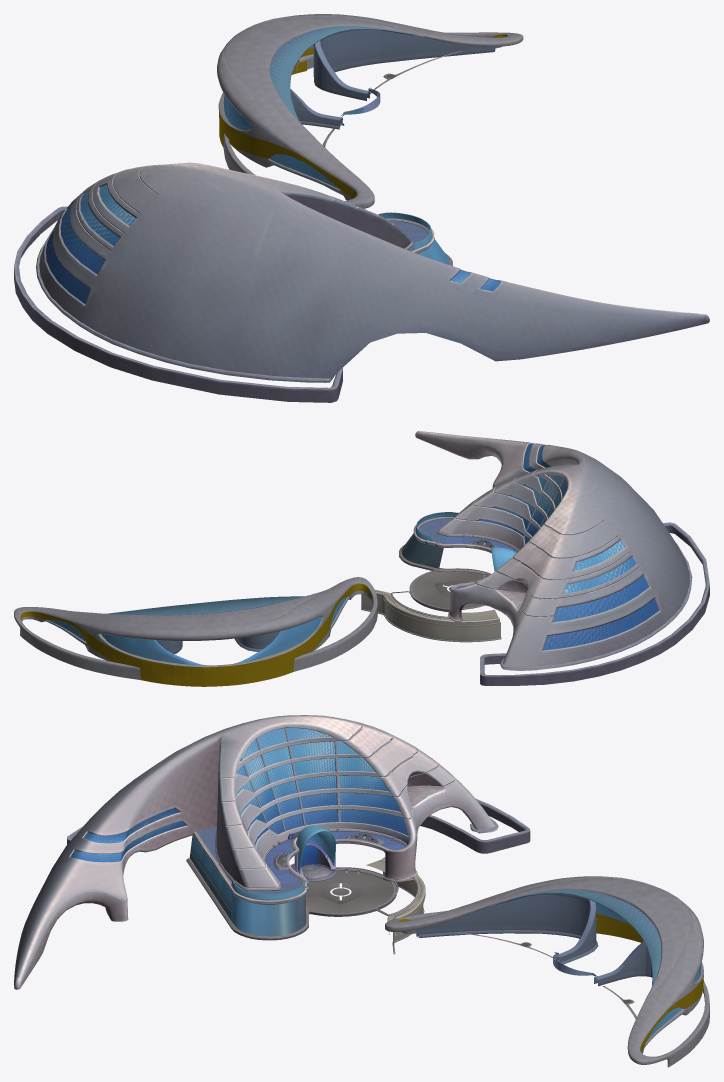
File: pref_sm_4v4pointbake_CSD_R_lv0.fbx
The picture shows the model from 3 angles, top to bottom: view 1: azimuth 30°, elevation 25°; view 2: azimuth 150°, elevation 25°; view 3: azimuth 270°, elevation 25°; orthographic projection. The views are drawn at different scales.
Visible parts, largest first — view 1: sm_4v4pointbake_CSD_R_i_lv0, sm_4v4pointbake_CSD_R_d_lv0, sm_4v4pointbake_CSD_R_c_lv0, sm_4v4pointbake_CSD_R_h_lv0, sm_4v4pointbake_CSD_R_b_lv0; view 2: sm_4v4pointbake_CSD_R_i_lv0, sm_4v4pointbake_CSD_R_d_lv0, sm_4v4pointbake_CSD_R_h_lv0, sm_4v4pointbake_CSD_R_c_lv0, sm_4v4pointbake_CSD_R_b_lv0, sm_4v4pointbake_CSD_R_a_lv0, sm_4v4pointbake_CSD_R_f_lv0; view 3: sm_4v4pointbake_CSD_R_i_lv0, sm_4v4pointbake_CSD_R_h_lv0, sm_4v4pointbake_CSD_R_d_lv0, sm_4v4pointbake_CSD_R_c_lv0, sm_4v4pointbake_CSD_R_f_lv0, sm_4v4pointbake_CSD_R_b_lv0, sm_4v4pointbake_CSD_R_a_lv0.
Boxes of the visible parts, x1,y1,x2,y2 form: sm_4v4pointbake_CSD_R_i_lv0: [14, 162, 709, 402]; sm_4v4pointbake_CSD_R_d_lv0: [217, 14, 523, 208]; sm_4v4pointbake_CSD_R_c_lv0: [218, 29, 507, 198]; sm_4v4pointbake_CSD_R_h_lv0: [46, 185, 500, 304]; sm_4v4pointbake_CSD_R_b_lv0: [223, 26, 413, 188]; sm_4v4pointbake_CSD_R_i_lv0: [399, 431, 709, 685]; sm_4v4pointbake_CSD_R_d_lv0: [14, 577, 377, 679]; sm_4v4pointbake_CSD_R_h_lv0: [401, 443, 659, 650]; sm_4v4pointbake_CSD_R_c_lv0: [20, 583, 371, 686]; sm_4v4pointbake_CSD_R_b_lv0: [47, 596, 347, 665]; sm_4v4pointbake_CSD_R_a_lv0: [361, 589, 501, 642]; sm_4v4pointbake_CSD_R_f_lv0: [412, 571, 487, 609]; sm_4v4pointbake_CSD_R_i_lv0: [14, 715, 530, 989]; sm_4v4pointbake_CSD_R_h_lv0: [70, 727, 408, 936]; sm_4v4pointbake_CSD_R_d_lv0: [385, 876, 709, 1067]; sm_4v4pointbake_CSD_R_c_lv0: [399, 893, 703, 1052]; sm_4v4pointbake_CSD_R_f_lv0: [305, 871, 393, 913]; sm_4v4pointbake_CSD_R_b_lv0: [495, 889, 701, 1042]; sm_4v4pointbake_CSD_R_a_lv0: [366, 857, 425, 954].
Bounding box in the file's own units: 74.09 × 17.41 × 75.67.
